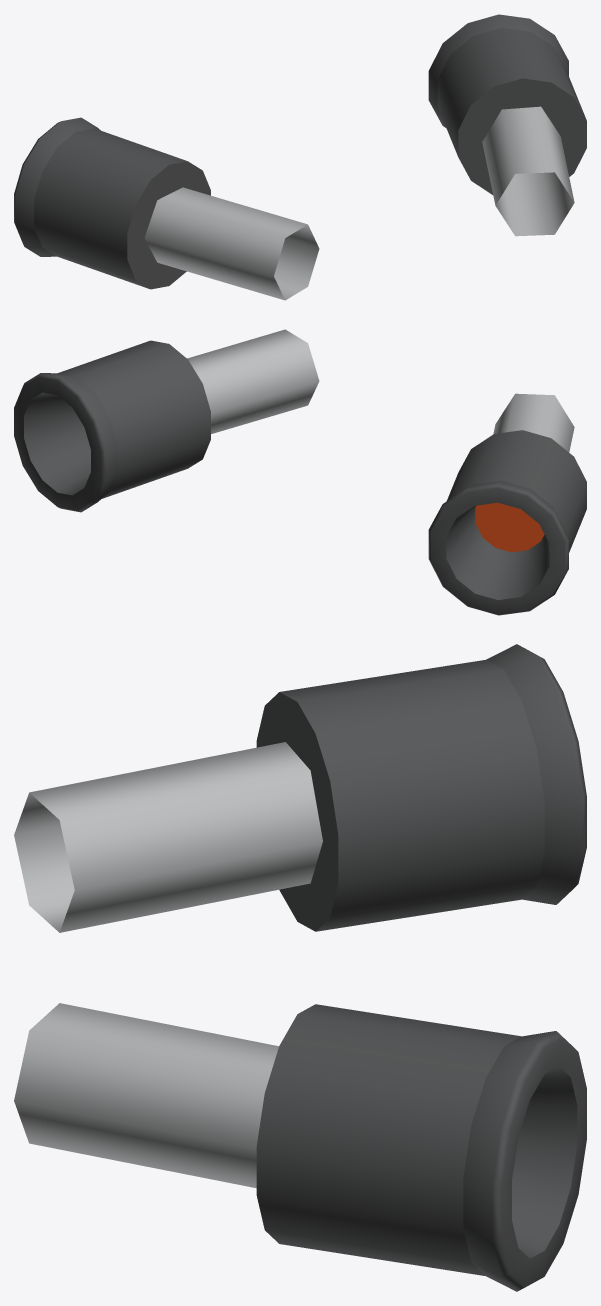
Rendered from Car_08_Pipe_Simple.fbx.
The picture shows the model from 3 angles, top to bottom: view 1: azimuth 30°, elevation 25°; view 2: azimuth 150°, elevation 25°; view 3: azimuth 270°, elevation 25°; orthographic projection. The views are drawn at different scales.
Visible parts, largest first — view 1: Car_08_Pipe_Simple; view 2: Car_08_Pipe_Simple; view 3: Car_08_Pipe_Simple.
Boxes of the visible parts, left/top/right/bottom form: Car_08_Pipe_Simple: left=14, top=14, right=586, bottom=300; Car_08_Pipe_Simple: left=14, top=329, right=586, bottom=615; Car_08_Pipe_Simple: left=14, top=644, right=586, bottom=1291.
Bounding box in the file's own units: 118 × 58.51 × 26.97.
